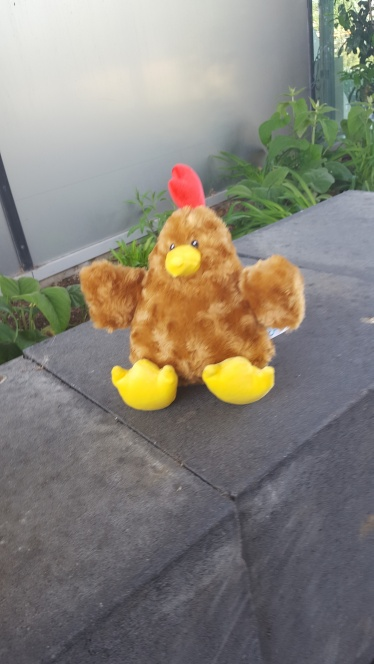chicken_front: (78, 163, 307, 410)
